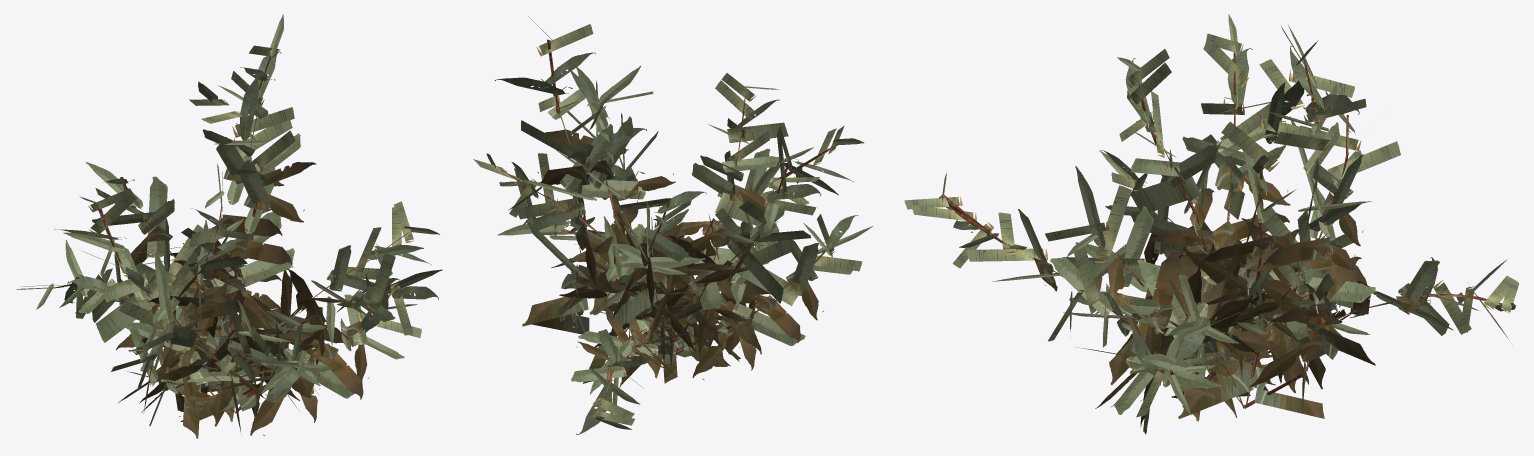
The model's file is ph_shrub_02_hi.glb.
3 renders of one model, left to right at view 1: azimuth 30°, elevation 25°; view 2: azimuth 150°, elevation 25°; view 3: azimuth 270°, elevation 25°, orthographic. The views are drawn at different scales.
Visible parts, largest first — view 1: shrub_02_c_stems; view 2: shrub_02_c_stems; view 3: shrub_02_c_stems.
Boxes of the visible parts, bbox=[...] form: shrub_02_c_stems: bbox=[16, 14, 442, 438]; shrub_02_c_stems: bbox=[473, 16, 872, 434]; shrub_02_c_stems: bbox=[904, 14, 1519, 434].
Size of the model in its own units: 1.89 by 1.78 by 2.36.
Materials: 1 (1 with a texture image).
